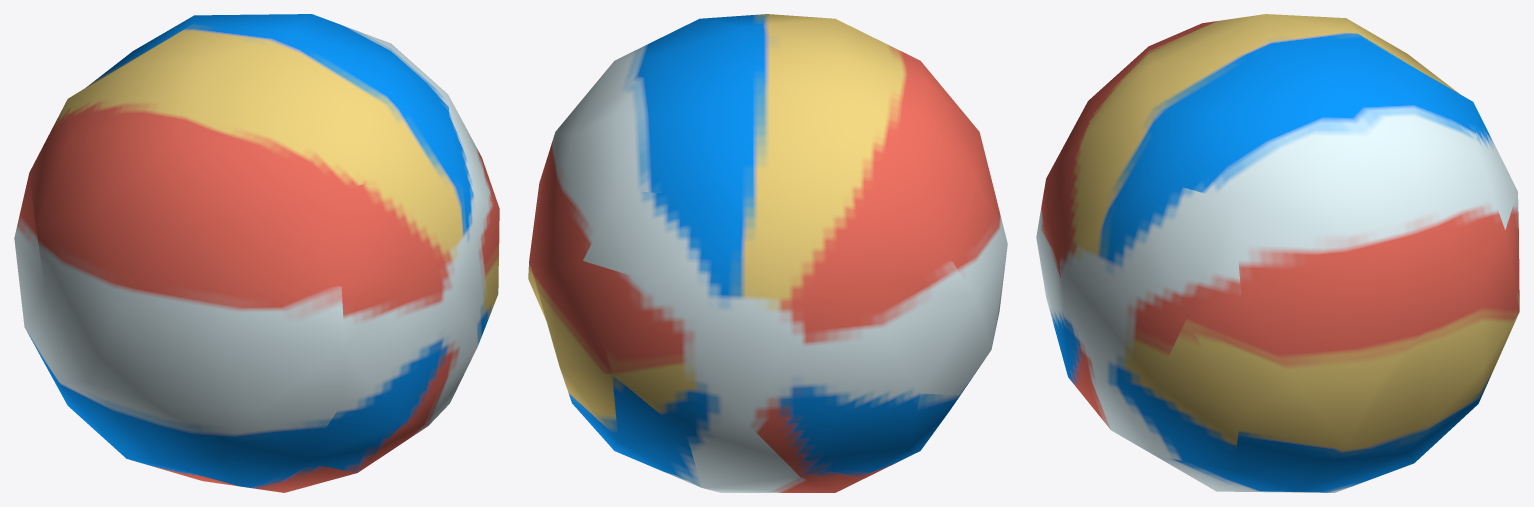
File: BeachBall.fbx
The picture shows the model from 3 angles, left to right: view 1: azimuth 30°, elevation 25°; view 2: azimuth 150°, elevation 25°; view 3: azimuth 270°, elevation 25°; orthographic projection.
Visible parts, largest first — view 1: Beachballs; view 2: Beachballs; view 3: Beachballs.
Part boxes in pixels (x1,y1,x2,y2): Beachballs: (14, 14, 499, 492); Beachballs: (528, 14, 1007, 492); Beachballs: (1036, 14, 1519, 492).
Size of the model in its own units: 46.38 by 45.8 by 46.28.
1 material, 1 textured.
